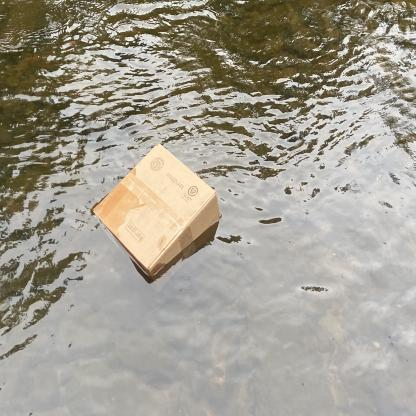trash: (88, 140, 226, 282)
